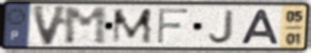A: (239, 8, 281, 46)
F: (155, 7, 191, 46)
J: (207, 9, 237, 45)
M: (62, 6, 109, 46), (110, 7, 154, 46)
V: (30, 3, 71, 47)
